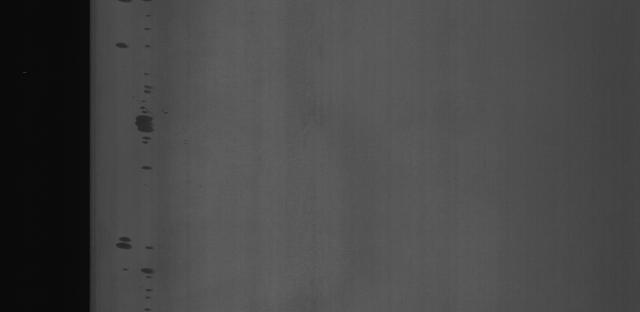oil_spot: (130, 83, 159, 178), (107, 26, 135, 54), (113, 232, 131, 258), (136, 263, 157, 279)
